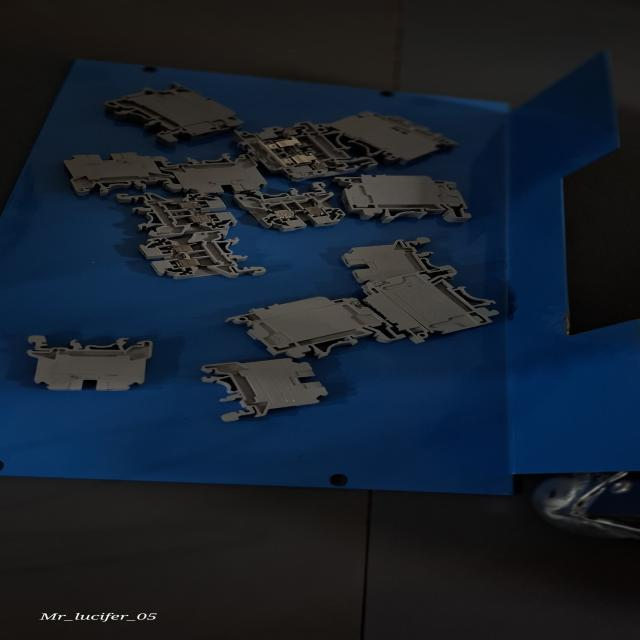Inverted: (180, 351, 338, 423), (9, 336, 155, 404), (51, 150, 178, 194), (152, 153, 284, 195), (337, 236, 443, 286)
Pass: (130, 229, 270, 282), (104, 188, 245, 240), (231, 178, 347, 238)
